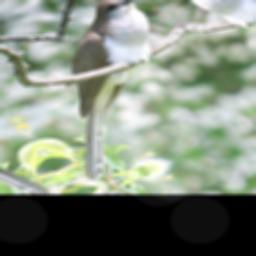Cuckoo: (0, 0, 246, 184)
